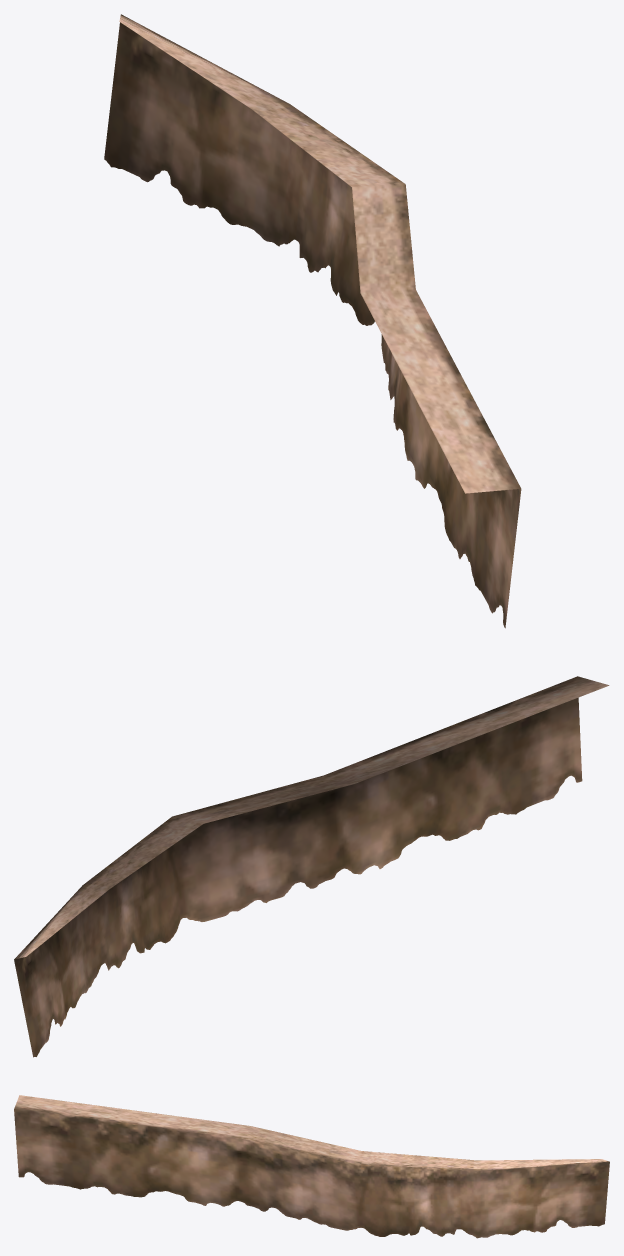
The model's file is EKH_ENTRANCE_PS_EN_EDGEGRAB03938.fbx.
3 renders of one model, top to bottom at view 1: azimuth 30°, elevation 25°; view 2: azimuth 150°, elevation 25°; view 3: azimuth 270°, elevation 25°, orthographic. The views are drawn at different scales.
Parts seen in each view (by area): view 1: EKH_ENTRANCE_PS_EN_EDGEGRAB03938; view 2: EKH_ENTRANCE_PS_EN_EDGEGRAB03938; view 3: EKH_ENTRANCE_PS_EN_EDGEGRAB03938.
Boxes of the visible parts, x1=… form: EKH_ENTRANCE_PS_EN_EDGEGRAB03938: x1=104, y1=14, x2=521, y2=628; EKH_ENTRANCE_PS_EN_EDGEGRAB03938: x1=14, y1=676, x2=609, y2=1057; EKH_ENTRANCE_PS_EN_EDGEGRAB03938: x1=14, y1=1095, x2=609, y2=1238.
Bounding box in the file's own units: 9438 × 5226 × 34458.
Materials: 1 (1 with a texture image).
